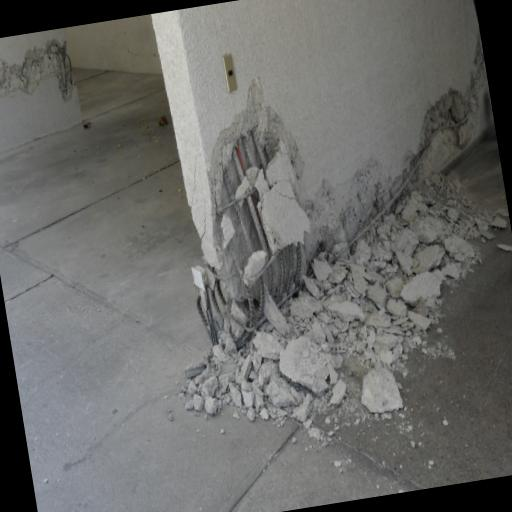spalling: (198, 83, 478, 363), (0, 45, 75, 99)
